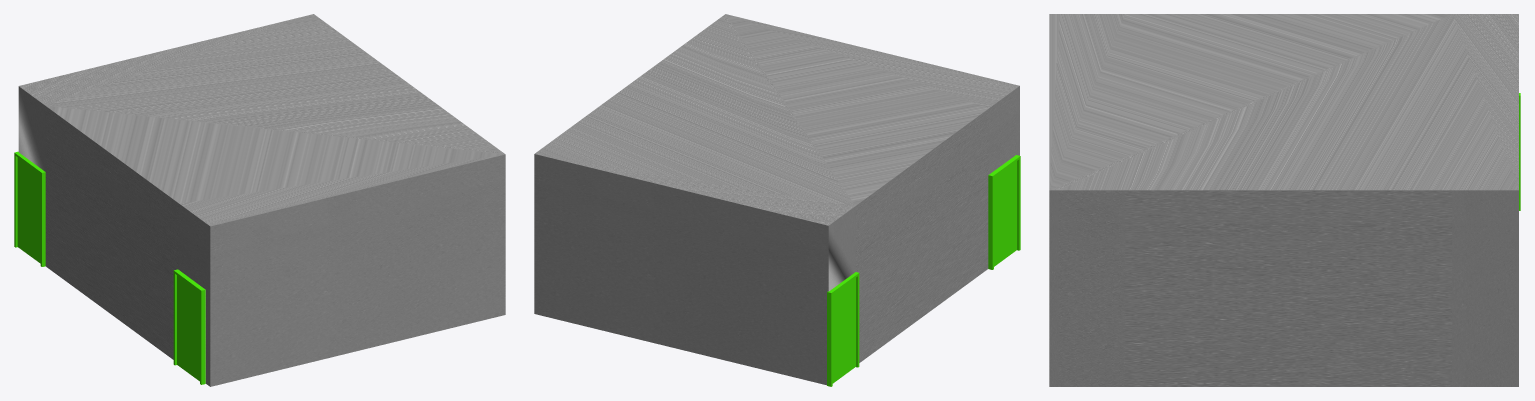
Rendered from SalleSAE.dae.
The picture shows the model from 3 angles, left to right: view 1: azimuth 30°, elevation 25°; view 2: azimuth 150°, elevation 25°; view 3: azimuth 270°, elevation 25°; orthographic projection. The views are drawn at different scales.
Parts seen in each view (by area): view 1: 311, 311_PORTE_01, 311_PORTE_02, 311_CADRE_02, 311_CADRE_01; view 2: 311, 311_PORTE_01, 311_PORTE_02, 311_CADRE_02, 311_CADRE_01; view 3: 311.
Part boxes in pixels (x1,y1,x2,y2): 311: (18, 14, 505, 386); 311_PORTE_01: (17, 157, 40, 263); 311_PORTE_02: (177, 275, 199, 381); 311_CADRE_02: (173, 269, 205, 384); 311_CADRE_01: (14, 151, 45, 266); 311: (534, 14, 1019, 385); 311_PORTE_01: (832, 278, 855, 383); 311_PORTE_02: (994, 161, 1016, 266); 311_CADRE_02: (988, 155, 1020, 269); 311_CADRE_01: (827, 272, 859, 386); 311: (1049, 14, 1518, 386).
Size of the model in its own units: 144 by 160 by 73.41.
15 materials, 12 textured.
